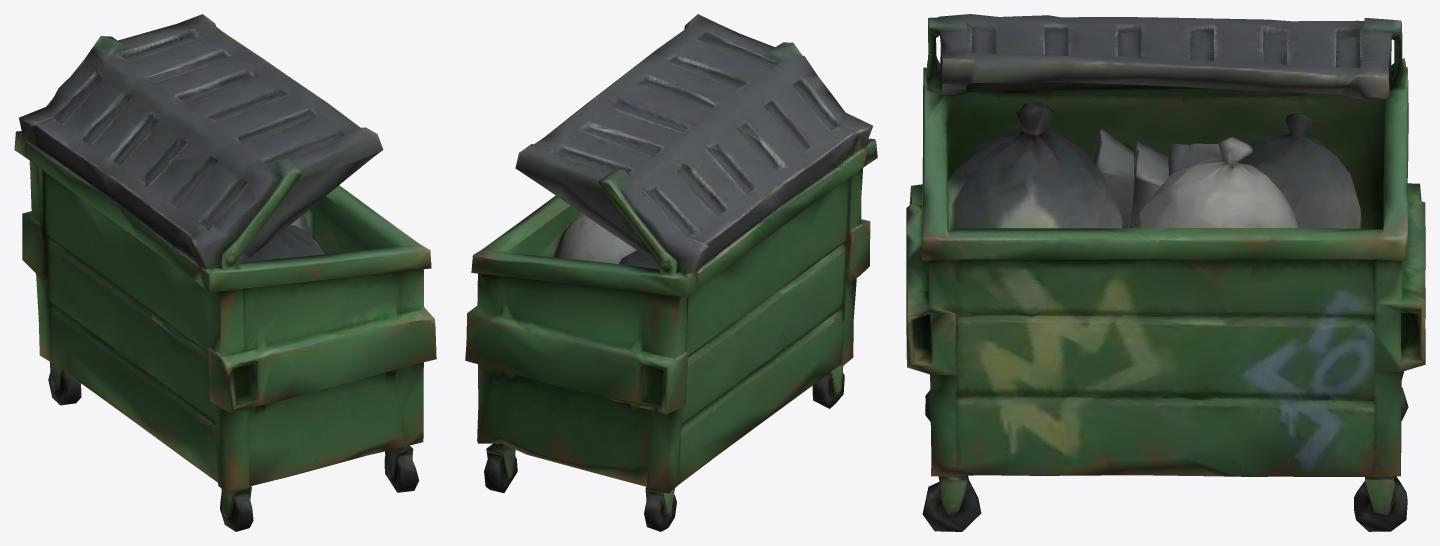
File: dumpster.glb
The picture shows the model from 3 angles, left to right: view 1: azimuth 30°, elevation 25°; view 2: azimuth 150°, elevation 25°; view 3: azimuth 270°, elevation 25°; orthographic projection. The views are drawn at different scales.
Visible parts, largest first — view 1: tripo_node_2f6ed3e2-482e-4903-9506-31e2845cc76c; view 2: tripo_node_2f6ed3e2-482e-4903-9506-31e2845cc76c; view 3: tripo_node_2f6ed3e2-482e-4903-9506-31e2845cc76c.
Part boxes in pixels (bbox=[...]): tripo_node_2f6ed3e2-482e-4903-9506-31e2845cc76c: bbox=[14, 14, 436, 531]; tripo_node_2f6ed3e2-482e-4903-9506-31e2845cc76c: bbox=[465, 14, 877, 531]; tripo_node_2f6ed3e2-482e-4903-9506-31e2845cc76c: bbox=[906, 14, 1425, 531].
Bounding box in the file's own units: 0.6226 × 0.9634 × 1.
Materials: 1 (1 with a texture image).
